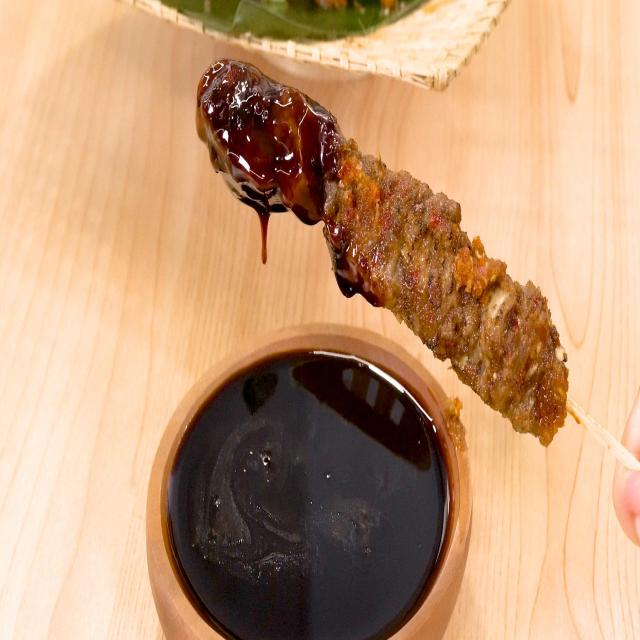Sate: (177, 66, 633, 515)
